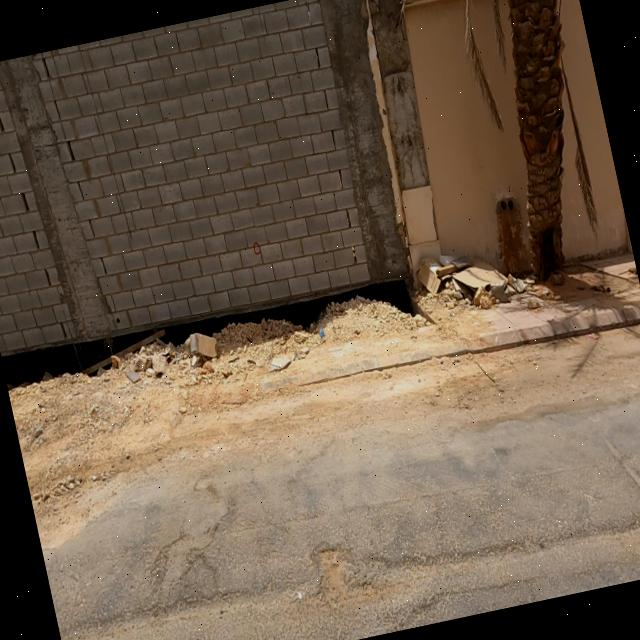Graffiti: (250, 240, 266, 257)
